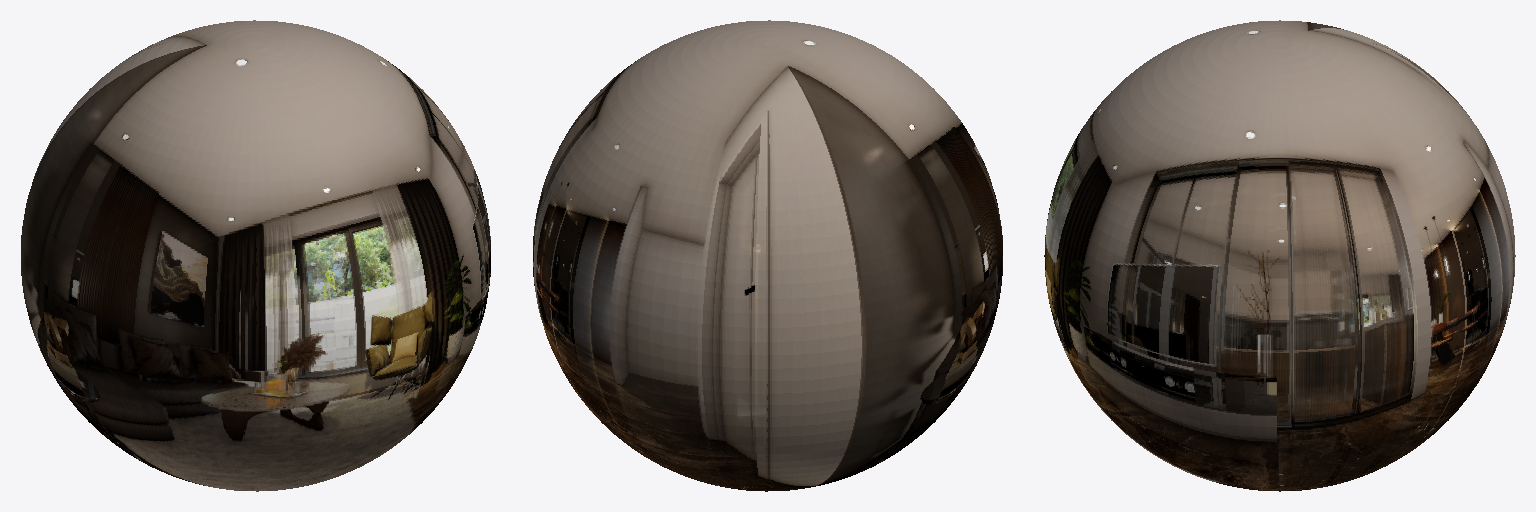
The picture shows the model from 3 angles: view 1: azimuth 30°, elevation 25°; view 2: azimuth 150°, elevation 25°; view 3: azimuth 270°, elevation 25°; orthographic projection.
Visible parts, largest first — view 1: obj1; view 2: obj1; view 3: obj1.
Boxes of the visible parts, x1,y1,x2,y2 form: obj1: [21, 20, 490, 491]; obj1: [533, 20, 1002, 491]; obj1: [1044, 20, 1515, 491].
Size of the model in its own units: 200 by 200 by 200.
1 materials, 1 textured.